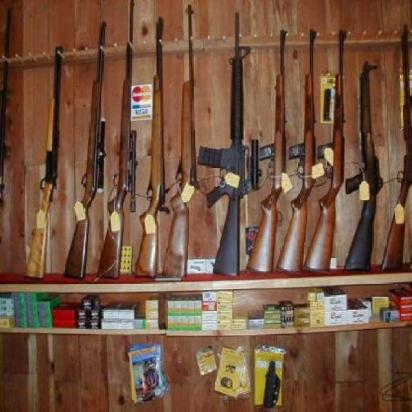Gun: (208, 37, 261, 275), (349, 66, 382, 272)
